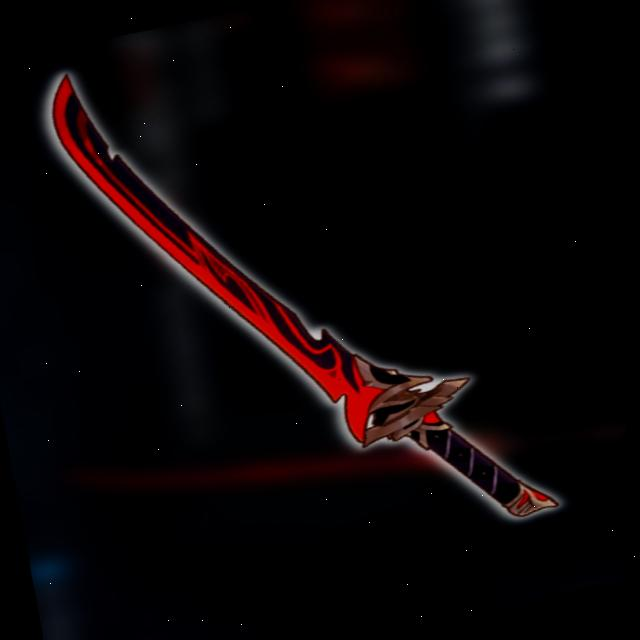knife: (30, 0, 577, 599)
